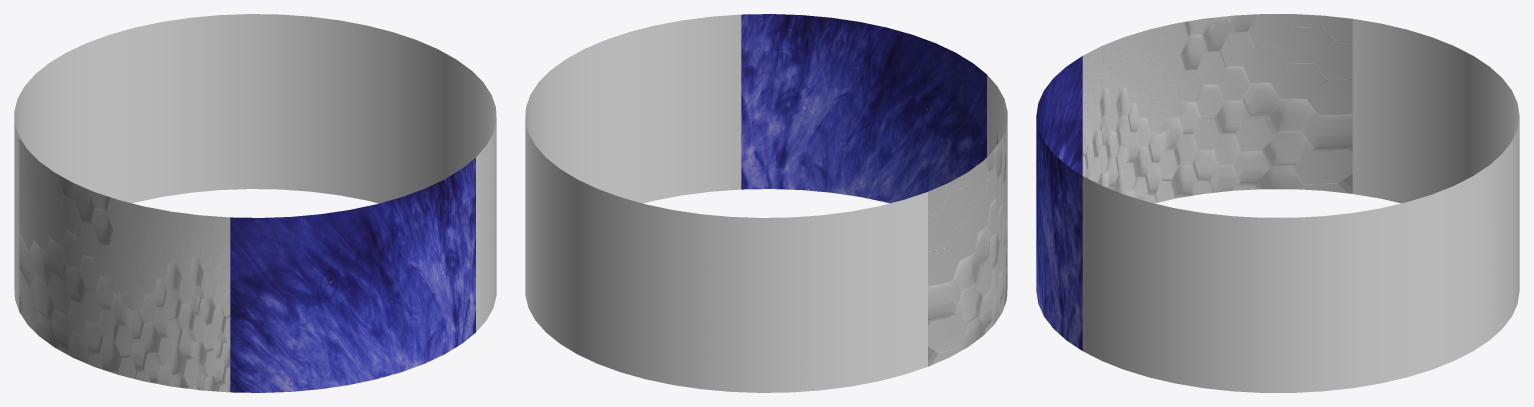
File: gallery.glb
3 views of the same model, side by side, from view 1: azimuth 30°, elevation 25°; view 2: azimuth 150°, elevation 25°; view 3: azimuth 270°, elevation 25° (orthographic).
Parts seen in each view (by area): view 1: Cylinder; view 2: Cylinder; view 3: Cylinder.
Part boxes in pixels (box(x1,y1,x2,y2)): Cylinder: box(14, 14, 496, 392); Cylinder: box(525, 14, 1007, 392); Cylinder: box(1036, 14, 1519, 392).
Bounding box in the file's own units: 6.99 × 2.8 × 7.
Materials: 5 (2 with a texture image).
